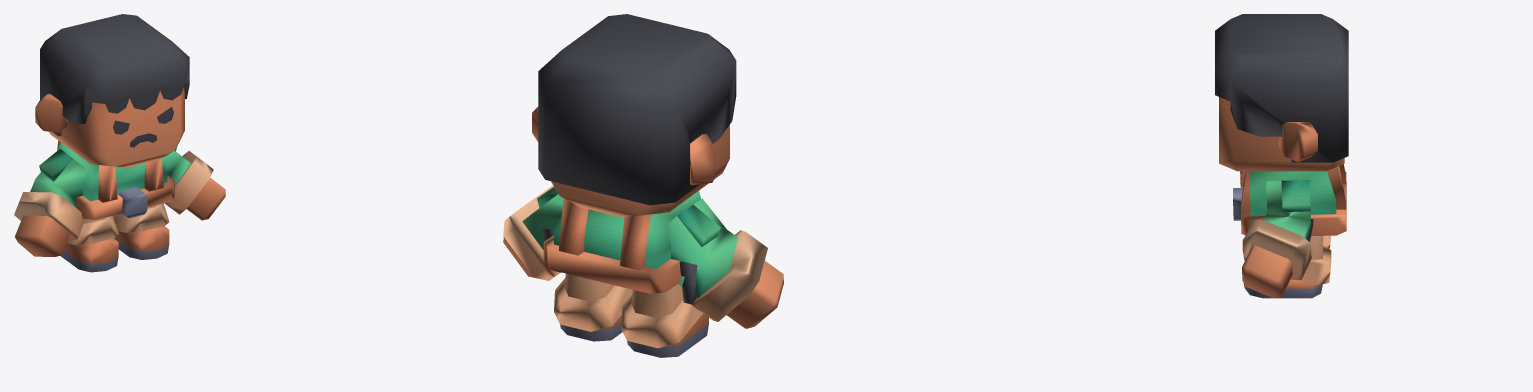
The model's file is crowdA_sprint_4.glb.
3 renders of one model, left to right at view 1: azimuth 30°, elevation 25°; view 2: azimuth 150°, elevation 25°; view 3: azimuth 270°, elevation 25°, orthographic. The views are drawn at different scales.
Visible parts, largest first — view 1: crowdA-sprint-4; view 2: crowdA-sprint-4; view 3: crowdA-sprint-4.
Part boxes in pixels (bbox=[...]): crowdA-sprint-4: bbox=[14, 14, 225, 272]; crowdA-sprint-4: bbox=[503, 14, 783, 357]; crowdA-sprint-4: bbox=[1215, 14, 1348, 298].
Size of the model in its own units: 1.2 by 0.6816 by 1.2.
1 material, 1 textured.
